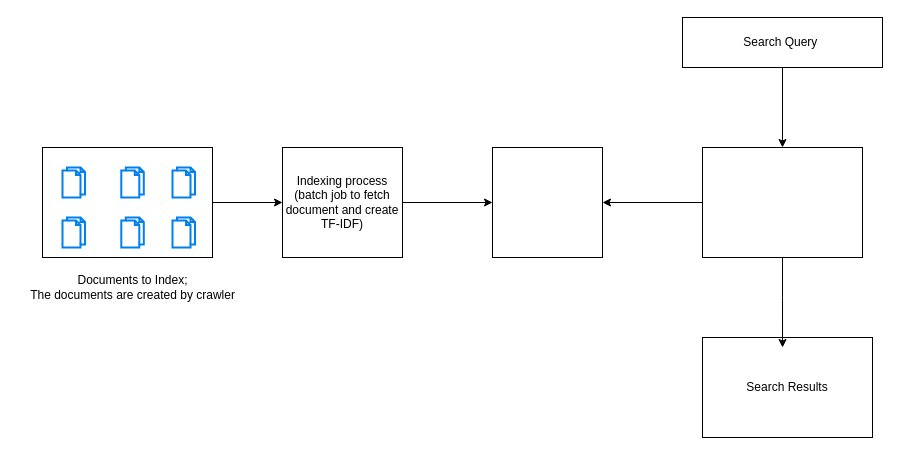
The diagram is 900 pixels wide and 455 high, and some of its shapes have lost their labels. The shapes that lost their labels are listed below. From the top down, each one's centre as x and y in pixels, then its label:
the point at 547,202: Binary file of the inverted index
the point at 782,202: Query processing
